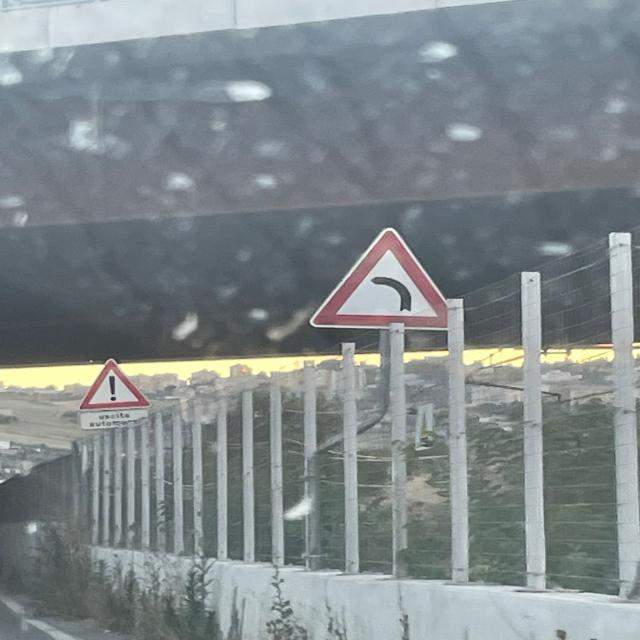warn_left_curve: (307, 226, 465, 330)
